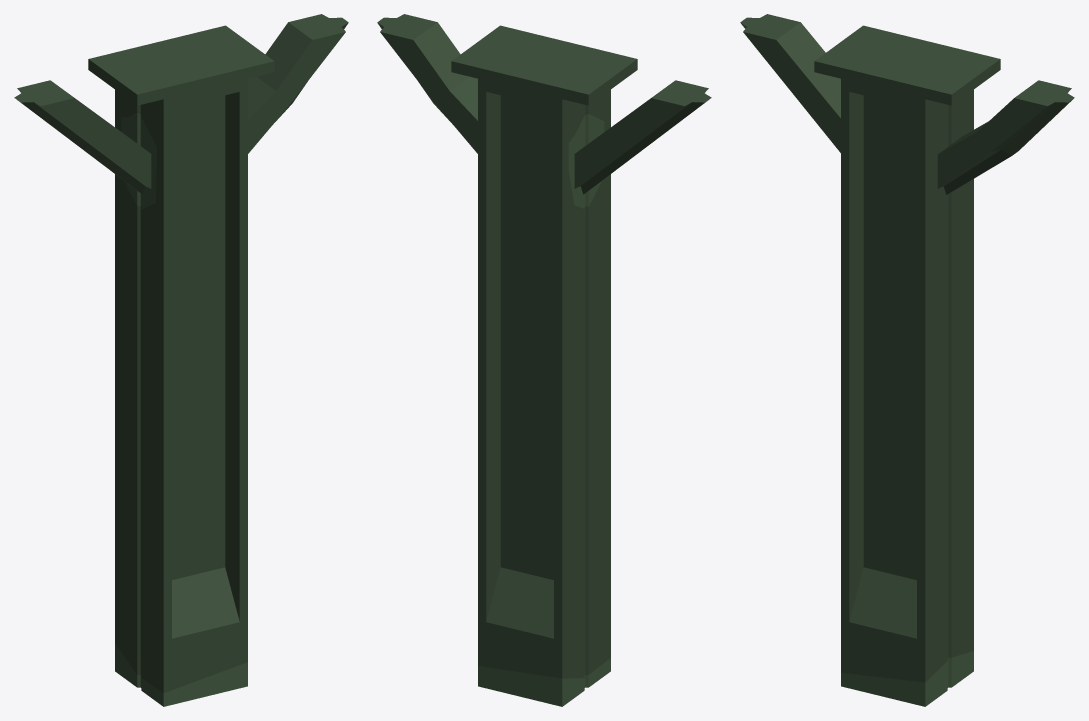
Rendered from SM_Train_Subway_Station_Pillar_02.fbx.
The picture shows the model from 3 angles, left to right: view 1: azimuth 30°, elevation 25°; view 2: azimuth 150°, elevation 25°; view 3: azimuth 330°, elevation 25°; orthographic projection.
Visible parts, largest first — view 1: SM_Train_Subway_Station_Pillar_02; view 2: SM_Train_Subway_Station_Pillar_02; view 3: SM_Train_Subway_Station_Pillar_02.
Part boxes in pixels (left/top/right/bottom): SM_Train_Subway_Station_Pillar_02: left=14, top=14, right=348, bottom=706; SM_Train_Subway_Station_Pillar_02: left=377, top=14, right=711, bottom=706; SM_Train_Subway_Station_Pillar_02: left=740, top=14, right=1074, bottom=706.
Bounding box in the file's own units: 155 × 280 × 40.
